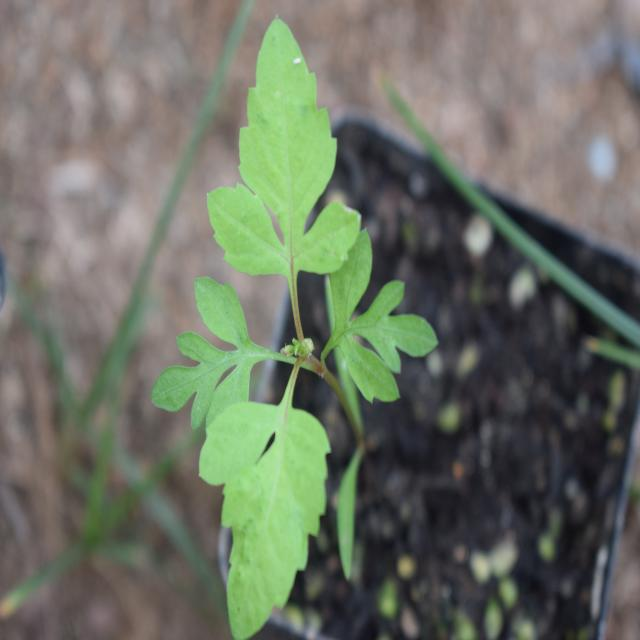Bidens pilosa: (154, 22, 431, 614)
